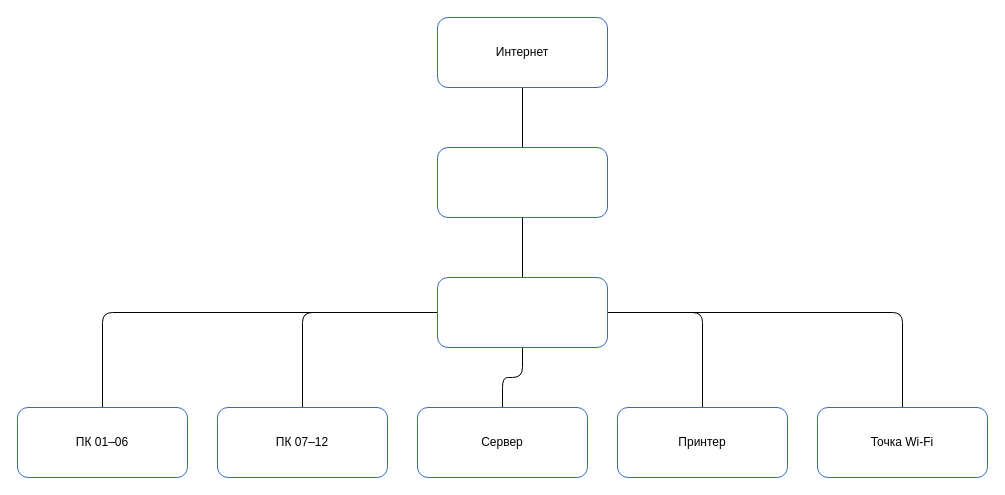
Some shapes in this 1005 by 495 pixel diagram are drawn without their labels. The box of each missing label's shape, as (x1, y1, x2, y2) in pixels:
Коммутатор: (436, 276, 608, 348)
Маршрутизатор: (436, 146, 608, 218)
